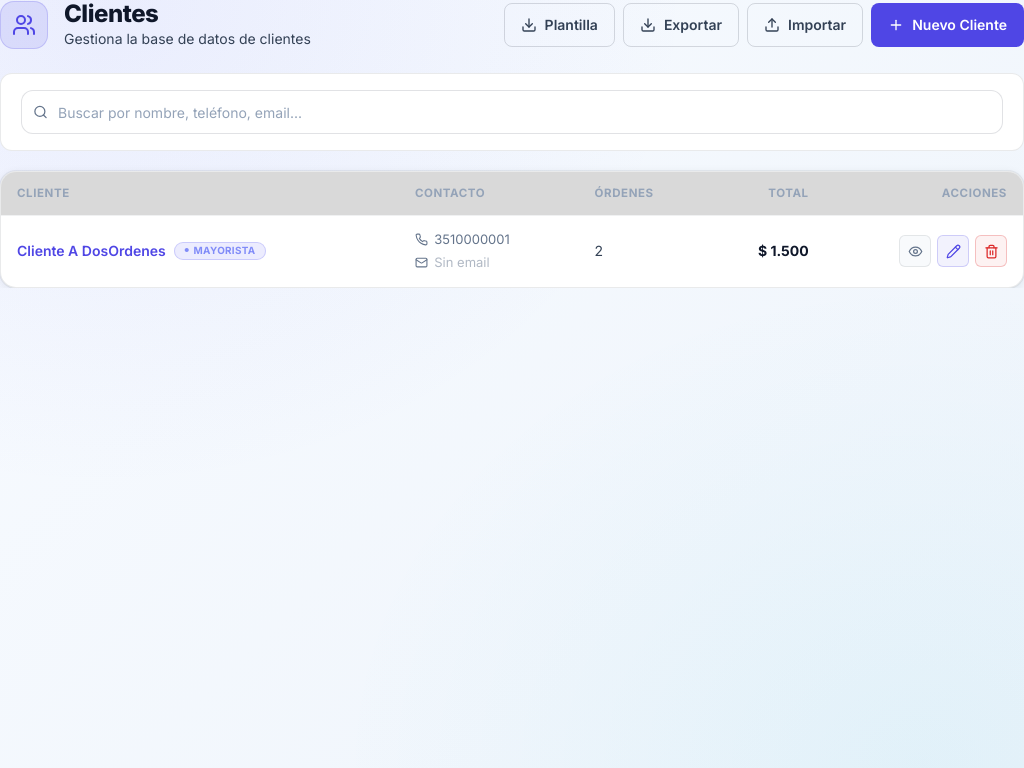
selector DNI/CUIT · semántica de tema › la edición usa la misma clase canónica, no una copia divergente
Click the button titled "Editar cliente" at (953, 251), box 937,235 -> 969,267
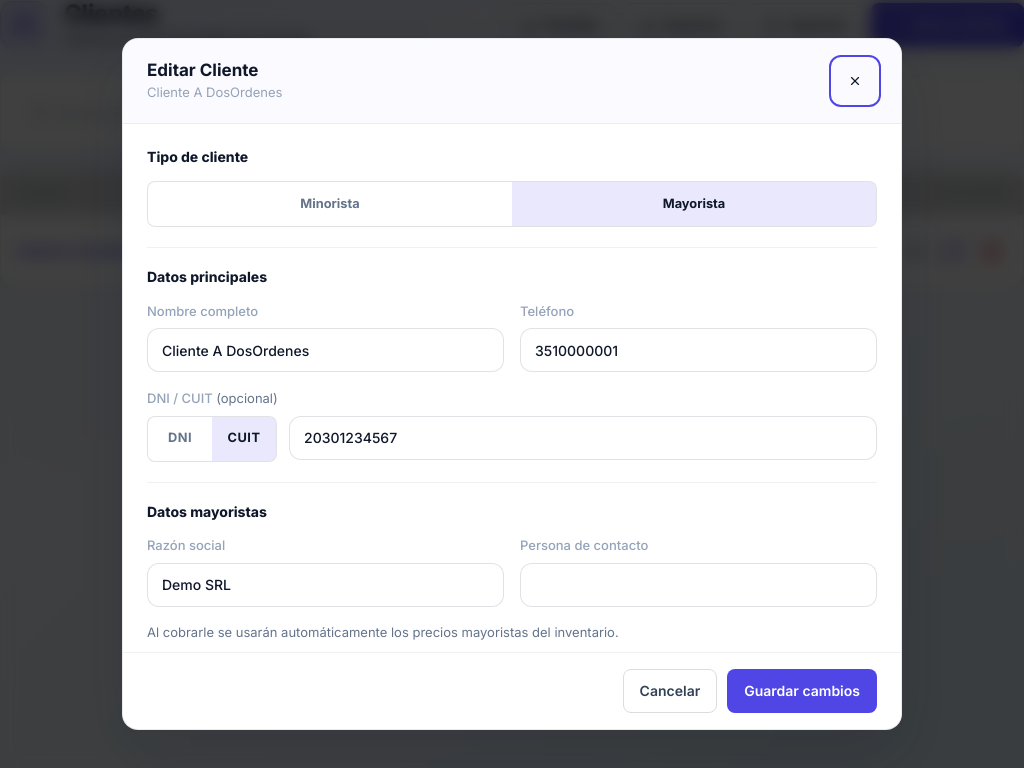
Expected: the heading "Editar Cliente" is shown, 147,60 -> 258,80
